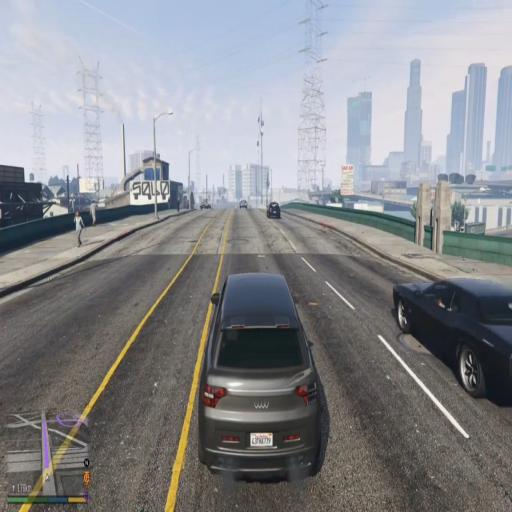Cars: (191, 270, 335, 488), (382, 255, 511, 420), (258, 193, 288, 226)
People: (74, 212, 86, 252), (88, 192, 100, 228), (176, 194, 181, 216)
